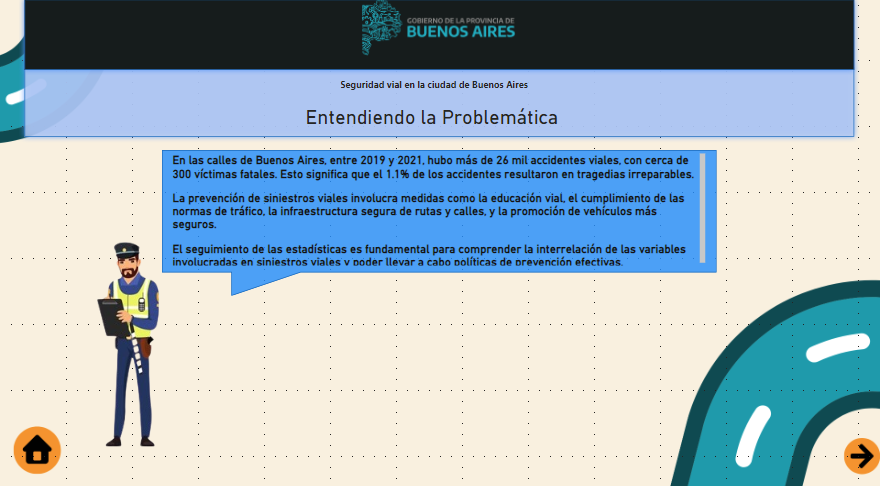

The dashboard page shown, as its layout file describes it:
{"tool":"powerbi","page":{"name":"Problematica","canvas":[1280,720],"ordinal":2},"visuals":[{"type":"shape","box":[28.1,99,1222.9,116.7],"z":0},{"type":"shape","box":[28.1,0,1222.9,118.2],"z":1000},{"type":"image","box":[499.2,0,279.1,99],"z":2000},{"type":"textbox","box":[439.6,156.6,399.2,45.5],"z":3000},{"type":"textbox","box":[490.2,117.8,298.2,30.5],"z":4000},{"type":"image","box":[67.4,298.1,249.3,422.7],"z":5000},{"type":"actionButton","box":[1226.1,648.4,53.9,47.2],"z":7000},{"type":"actionButton","box":[11.8,633.3,79.2,62.3],"z":8000},{"type":"shape","box":[235.8,227.4,806.7,212.2],"z":9000},{"type":"textbox","box":[245.9,227.4,784.8,173.5],"z":10000}]}

Visuals, with their boxes in screenshot pixels (x1, y1, x2, y2), scaled from the page's 1280x720 canvas onto the 880x486 screenshot:
shape: detection(19, 67, 860, 146)
shape: detection(19, 0, 860, 80)
image: detection(343, 0, 535, 67)
textbox: detection(302, 106, 577, 136)
textbox: detection(337, 80, 542, 100)
image: detection(46, 201, 218, 485)
actionButton: detection(843, 438, 879, 470)
actionButton: detection(8, 427, 63, 470)
shape: detection(162, 153, 717, 297)
textbox: detection(169, 153, 709, 271)
